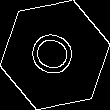O_E: (25, 26, 85, 84)
